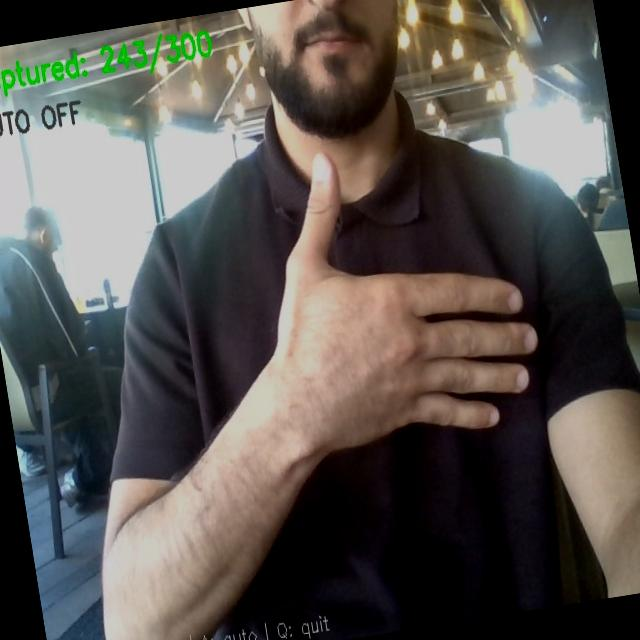Hand: (272, 154, 536, 452)
